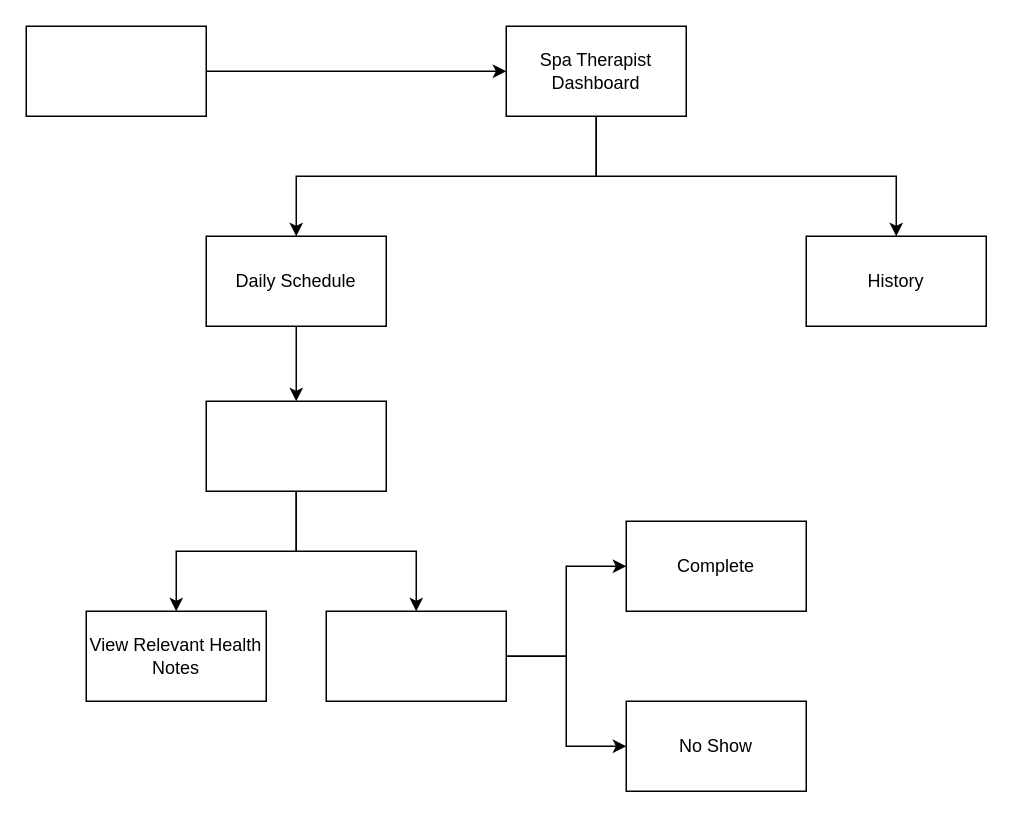
This 1013x818 diagram has some shape labels left out. Each missing label, with the centre of its shape:
"Login" belongs at pixel 115 70.
"Session Status Update" belongs at pixel 415 655.
"View Session Detail" belongs at pixel 295 445.
